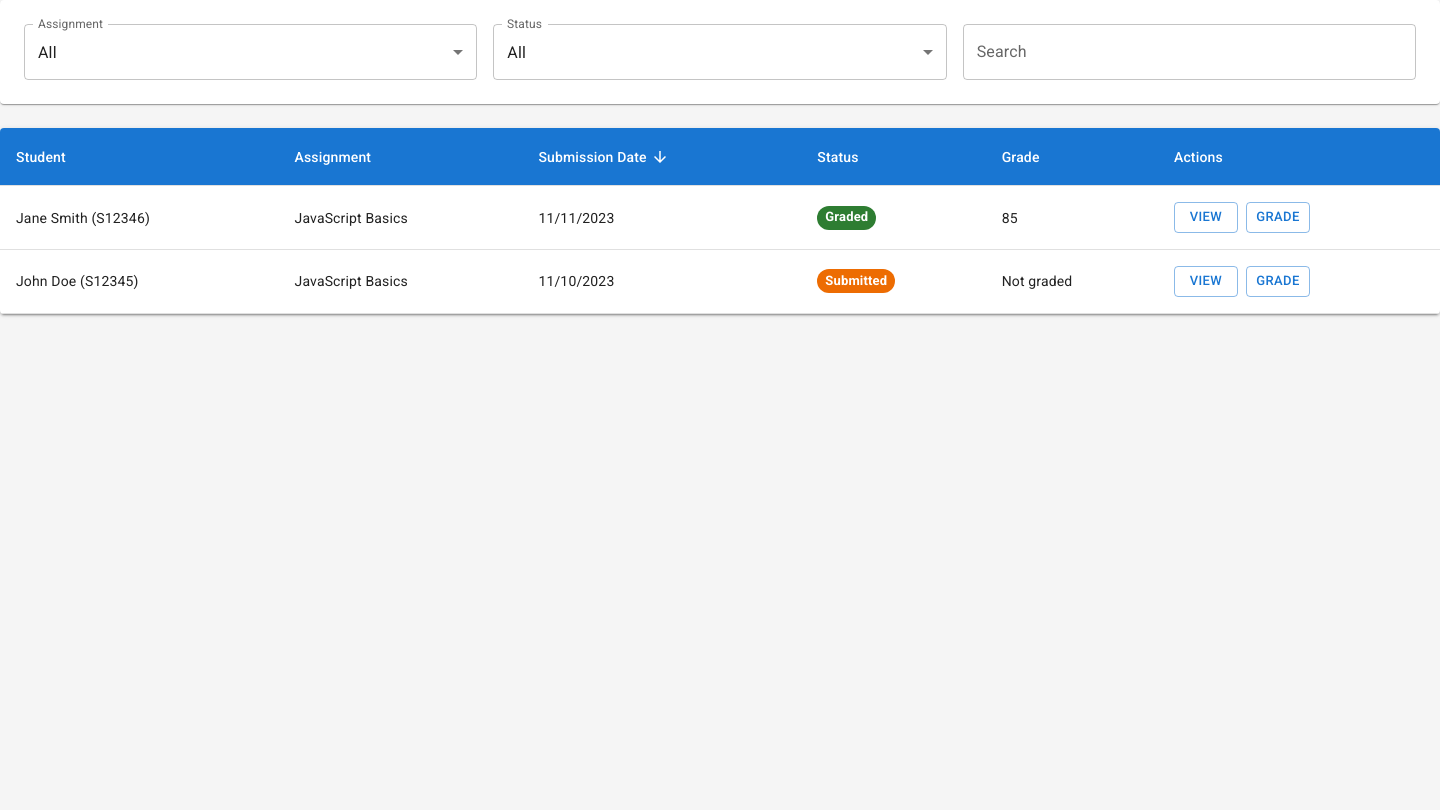
Test: ReviewSubmissionsPage › shows submission details in modal when clicking view button
Note: Find the row with John Doe
Click the button "View" in the row of "John Doe" at [1206, 281], box [1174,266,1238,297]
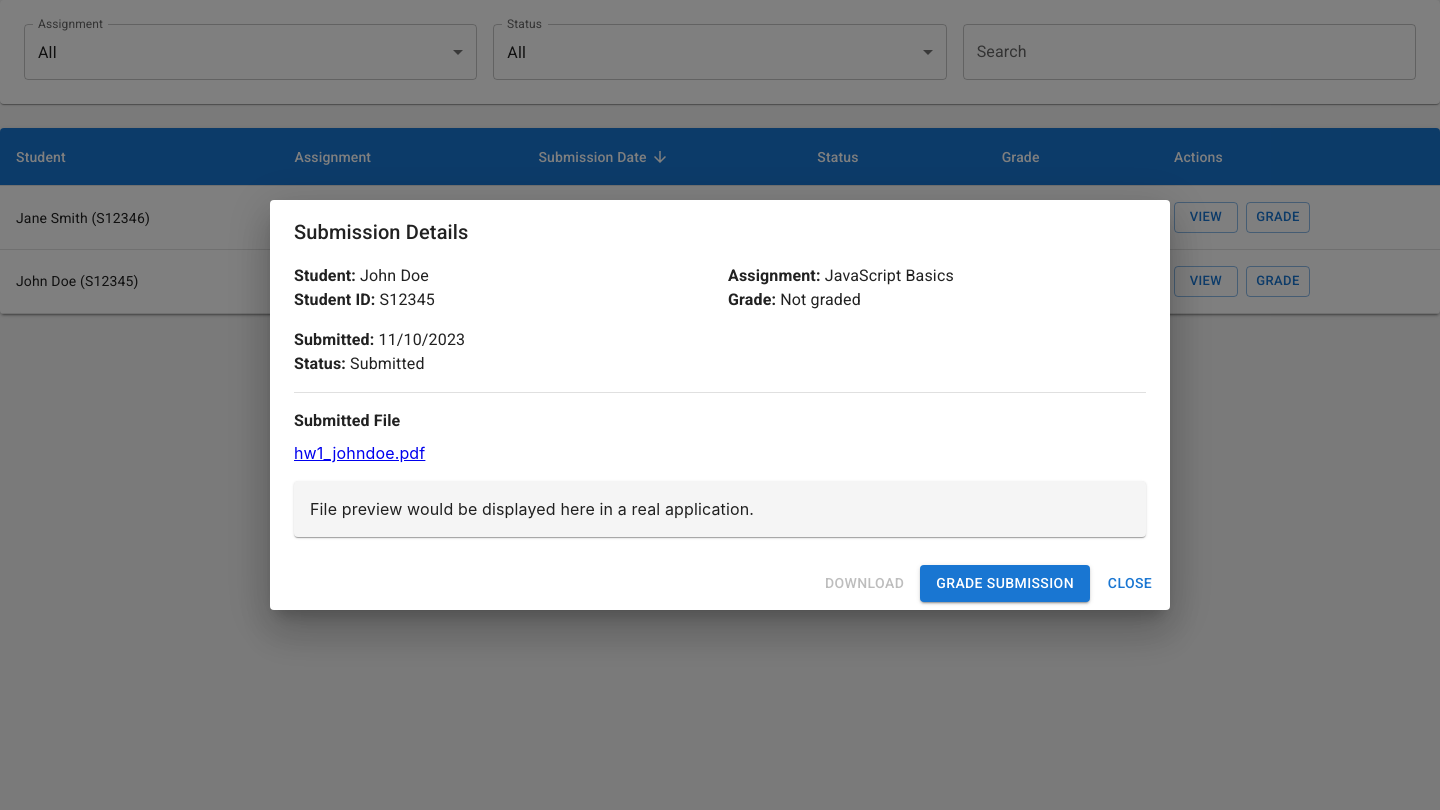
Check: the dialog is shown, box [270,200,1170,610]
Check: the text "Assignment:" is shown, box [728,266,821,285]
Check: the link "hw1_johndoe.pdf" is shown, box [294,443,425,463]
Note: Close modal
Click the button "Close" at [1130, 584], box [1098,565,1162,602]
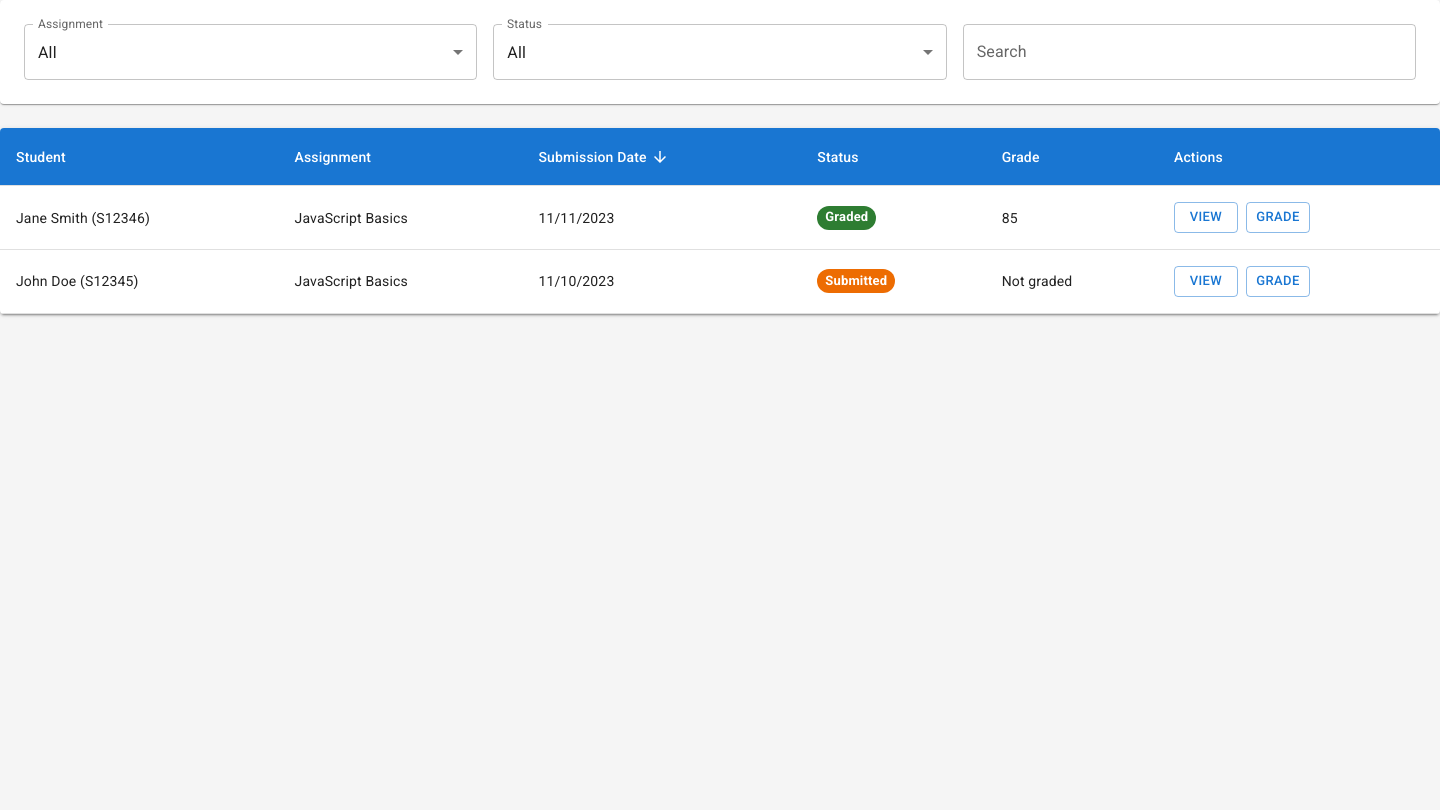
Check: the dialog is gone
